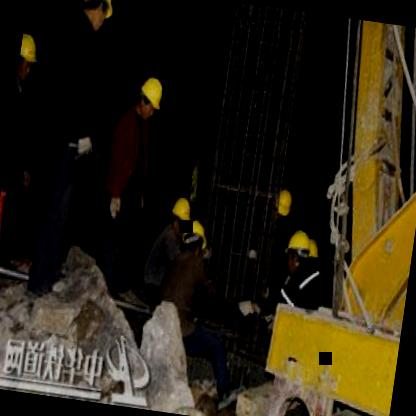helmet: (131, 71, 168, 124), (281, 228, 318, 275), (15, 27, 43, 89), (74, 0, 118, 37), (164, 192, 195, 239), (178, 218, 209, 260), (269, 187, 292, 226)
